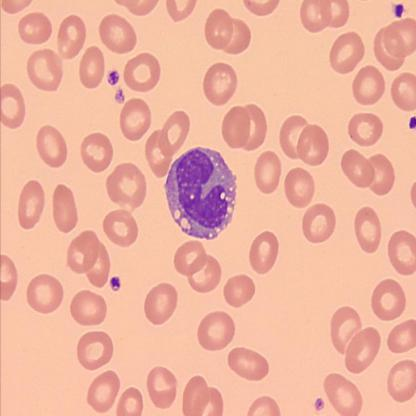Monocyte: (164, 146, 238, 240)
